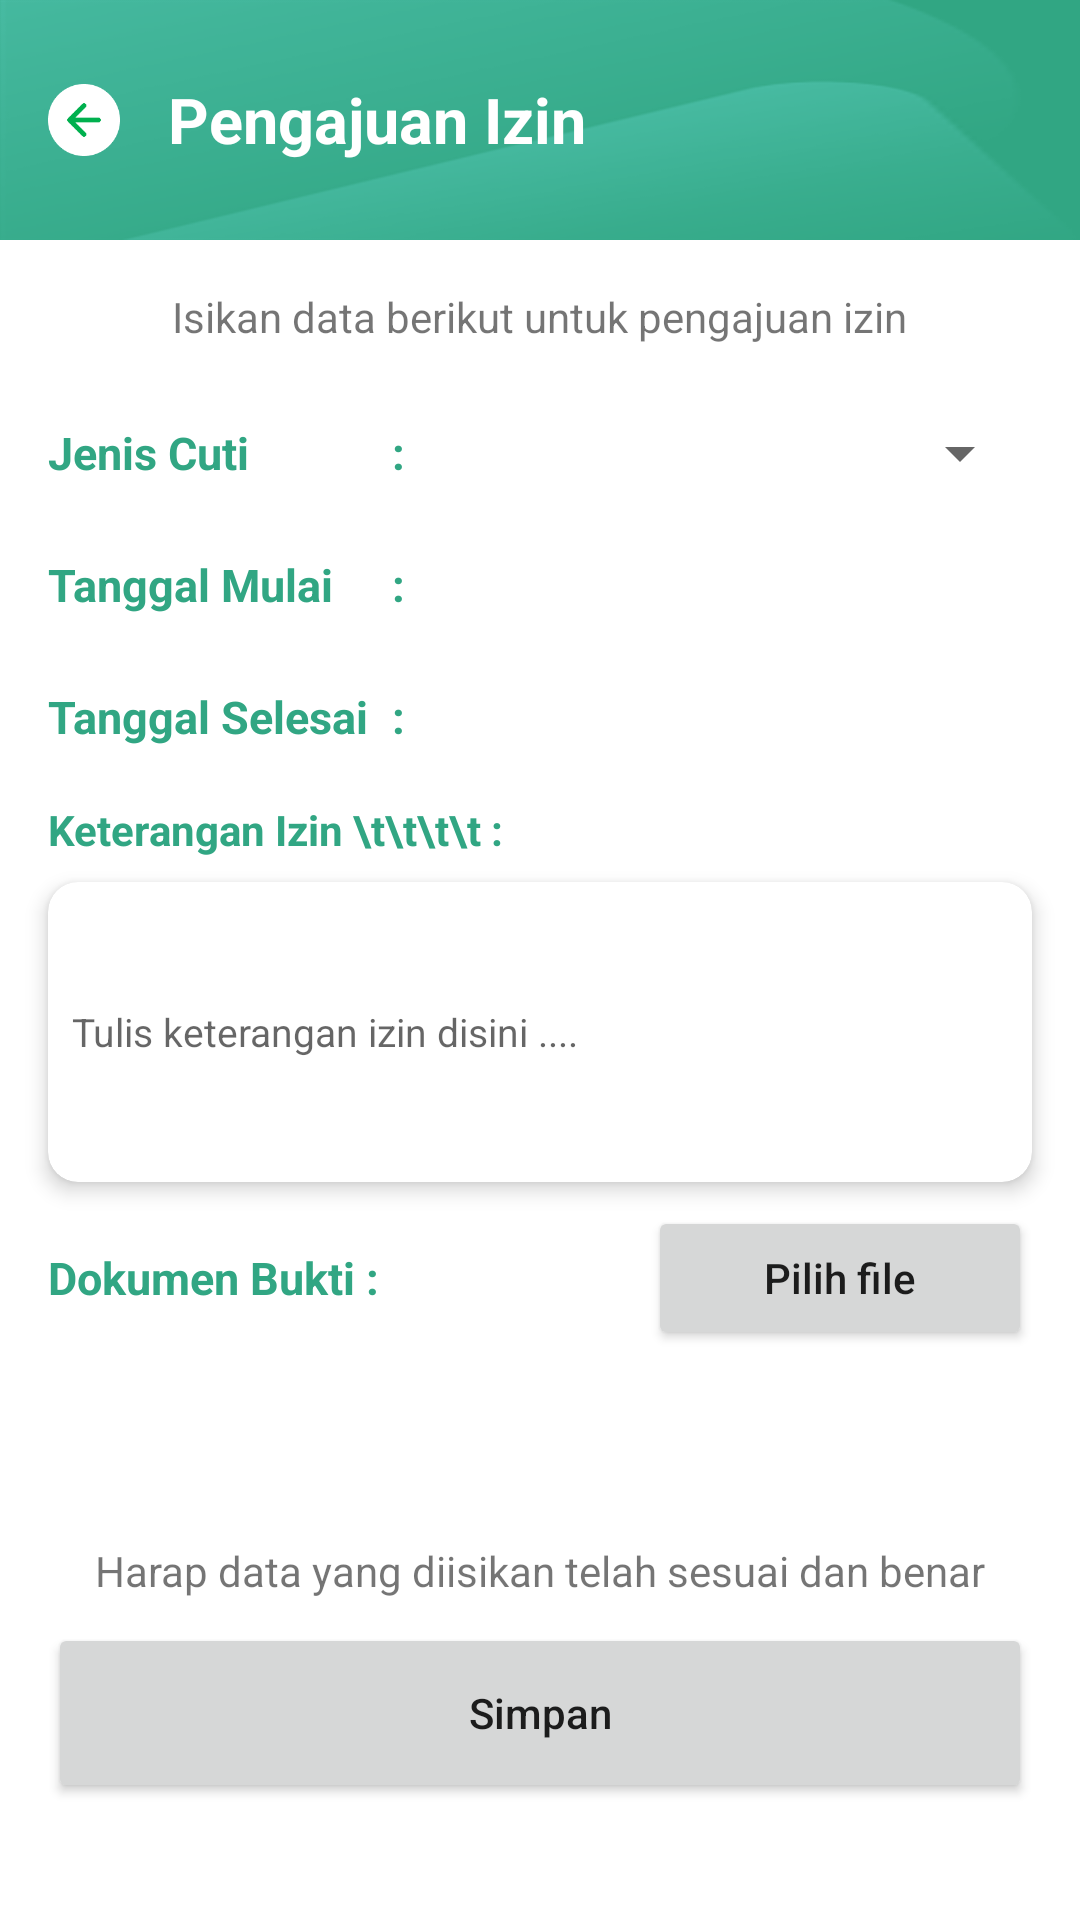

Icon bounding boxes for this 1080px x 1920px phone screenshot, format (x1, y1, x2, y2):
back: (48, 84, 120, 156)
